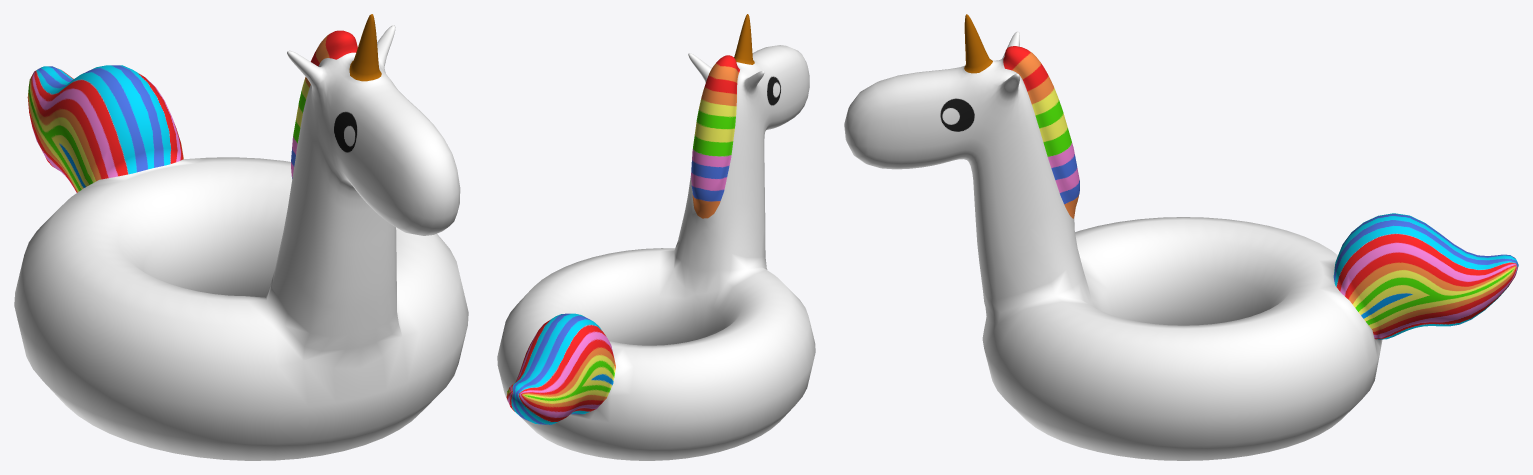
The model's file is PoolFloat2.obj.
3 views of the same model, side by side, from view 1: azimuth 30°, elevation 25°; view 2: azimuth 150°, elevation 25°; view 3: azimuth 270°, elevation 25° (orthographic). The views are drawn at different scales.
Visible parts, largest first — view 1: Torus.004_Torus.009; view 2: Torus.004_Torus.009; view 3: Torus.004_Torus.009.
Part boxes in pixels (x1=…): Torus.004_Torus.009: x1=14, y1=14, x2=468, y2=460; Torus.004_Torus.009: x1=497, y1=14, x2=815, y2=460; Torus.004_Torus.009: x1=844, y1=14, x2=1518, y2=460.
Size of the model in its own units: 2.88 by 3.34 by 5.24.
1 material, 1 textured.
